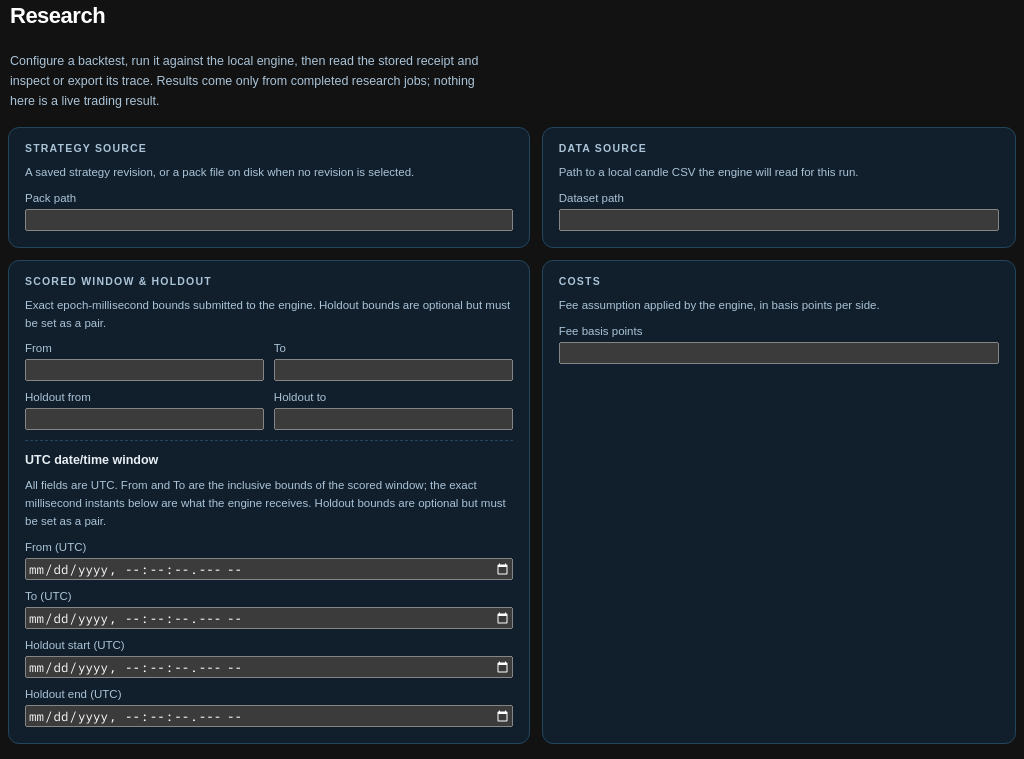
Test case: createHttpClient read liveness (issue292) › an ordinary Run through the real view recovers after the first status read hangs
Type "fixtures/synthetic.csv" into the field labelled "Dataset path".
click(779, 220); type("fixtures/synthetic.csv")  # box [559,209,999,231]
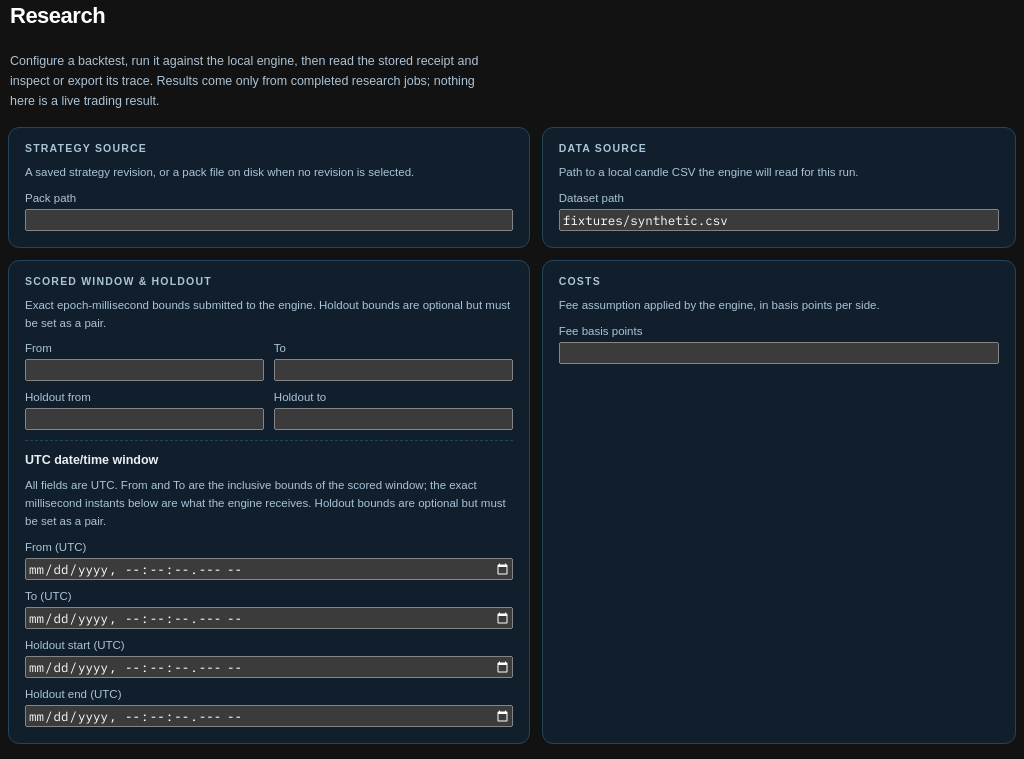
Type "40" into the field labelled "Fee basis points".
click(779, 353); type("40")  # box [559,342,999,364]
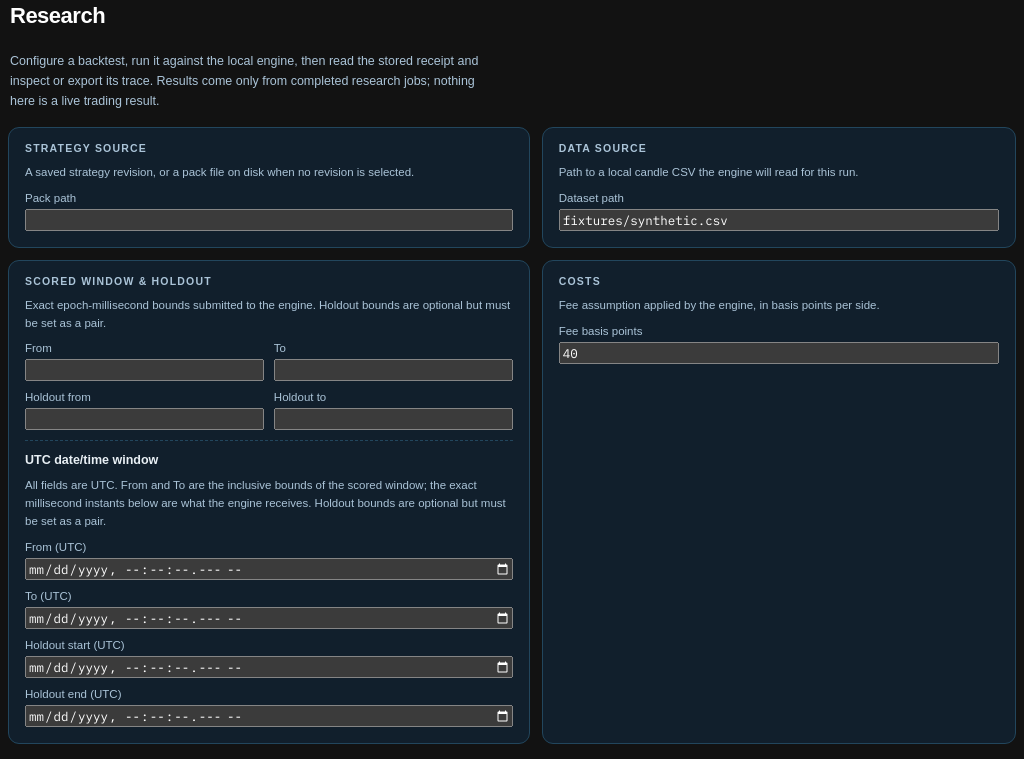
Type "0" into the field labelled "From".
click(144, 370); type("0")  # box [25,359,264,381]
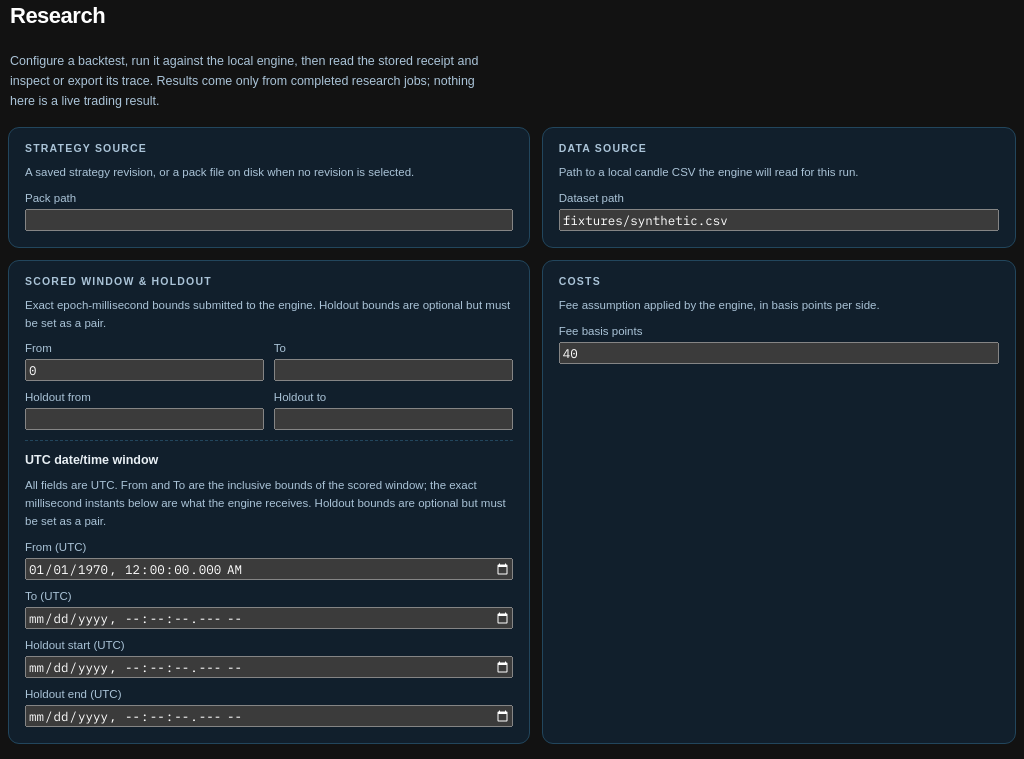
Type "1000" into the field labelled "To".
click(393, 370); type("1000")  # box [274,359,513,381]
(page scrolled)
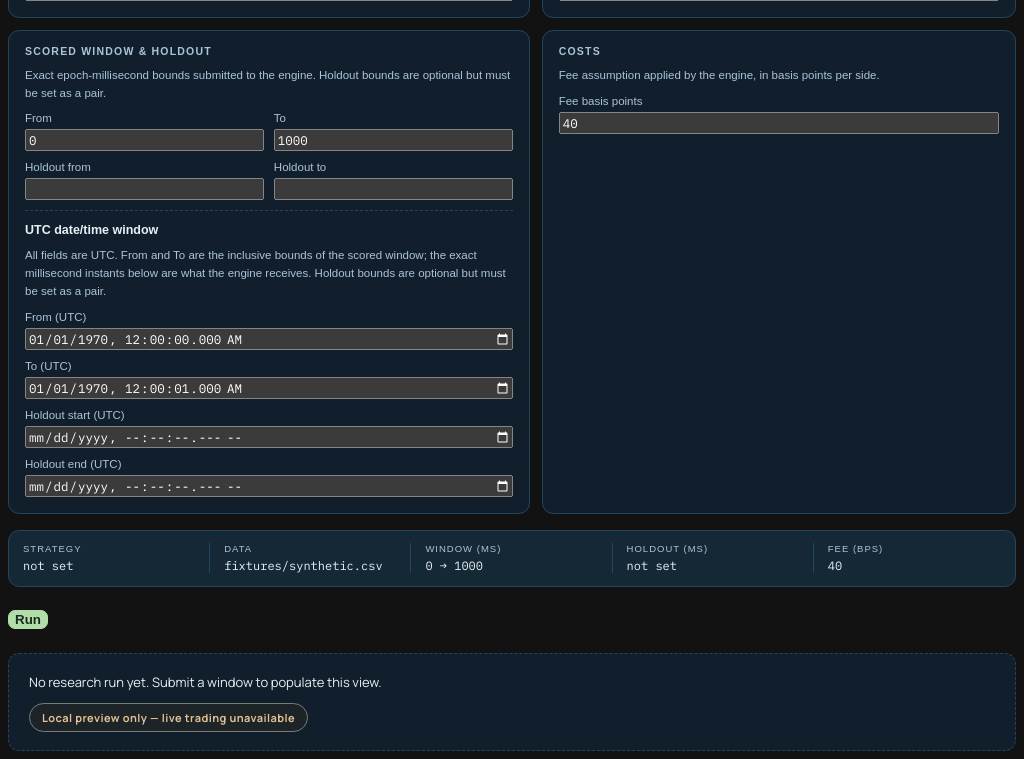
Click the button "Run".
click(28, 620)  # box [8,610,48,629]
Wait 11000 ms
(page scrolled)
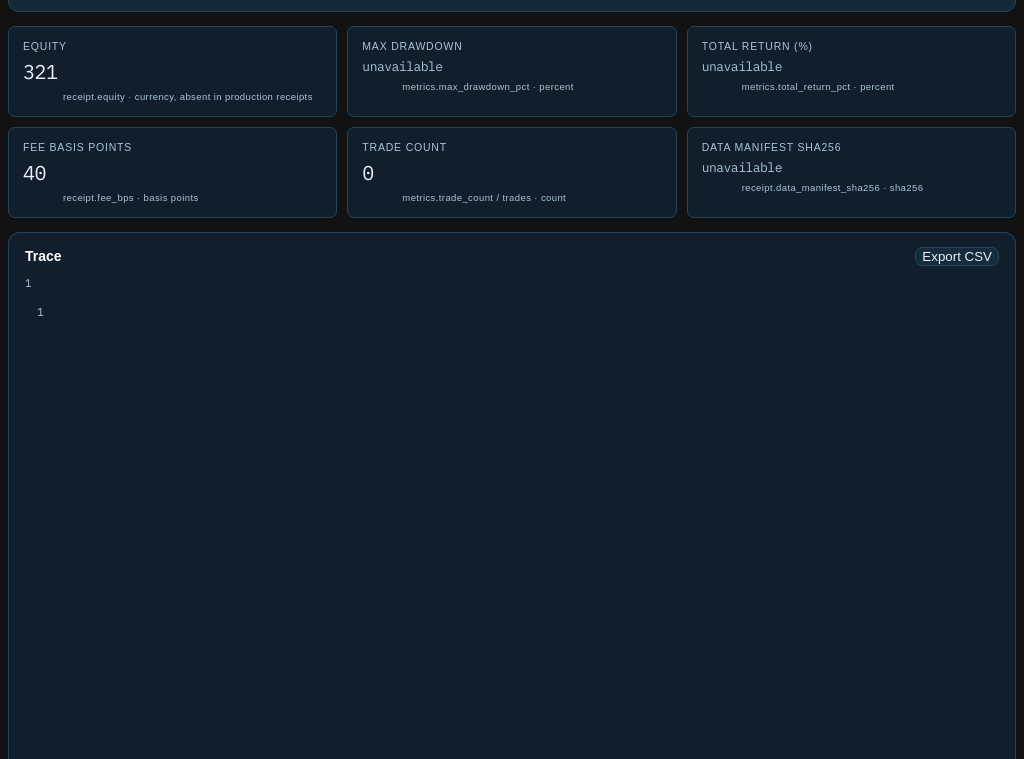
Expected: the element with test id "research-result" shows "321", [23,58,58,85]
